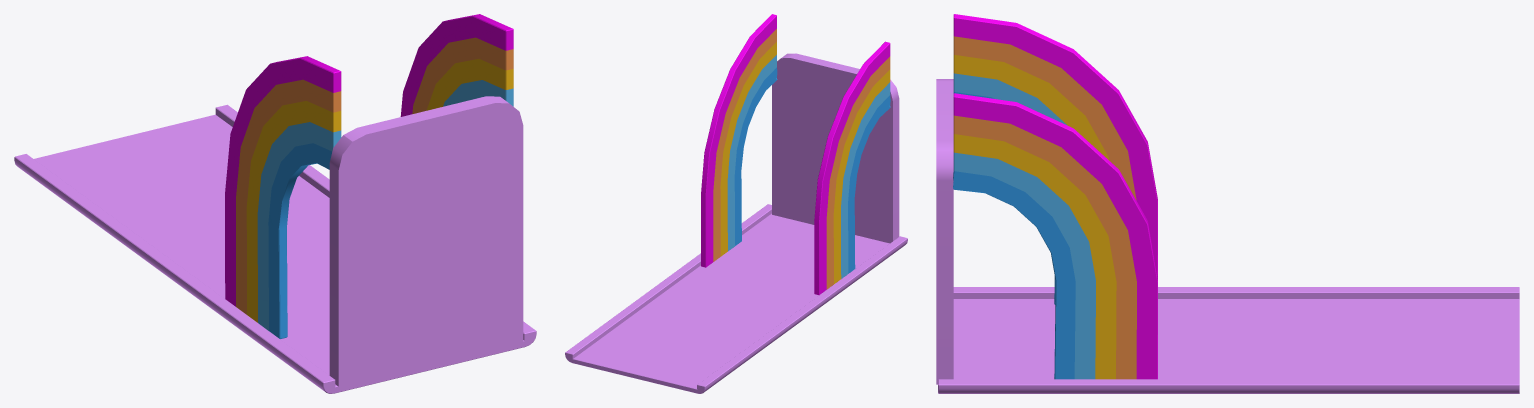
File: PLF0110030.fbx
3 renders of one model, left to right at view 1: azimuth 30°, elevation 25°; view 2: azimuth 150°, elevation 25°; view 3: azimuth 270°, elevation 25°, orthographic. The views are drawn at different scales.
Parts seen in each view (by area): view 1: smPLF0110030; view 2: smPLF0110030; view 3: smPLF0110030.
Boxes of the visible parts, x1,y1,x2,y2 form: smPLF0110030: (14,14,536,393); smPLF0110030: (565,14,907,393); smPLF0110030: (936,14,1519,393).
Size of the model in its own units: 574 by 804 by 1443.
1 material, 1 textured.
